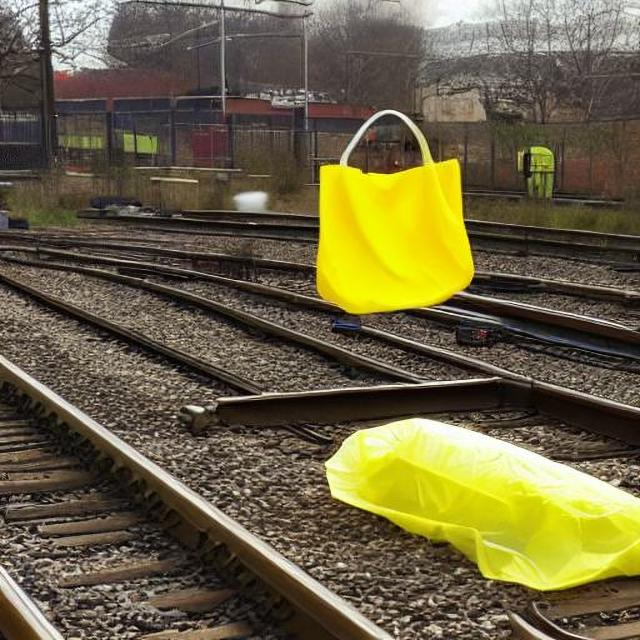plastic bag: (310, 403, 640, 614), (314, 98, 474, 314), (515, 143, 557, 198)
